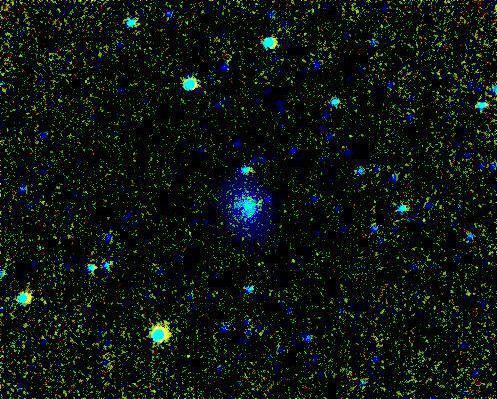star: (251, 186, 281, 216)
